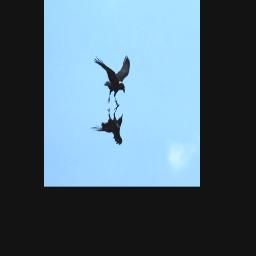Crow: (93, 55, 131, 108)
